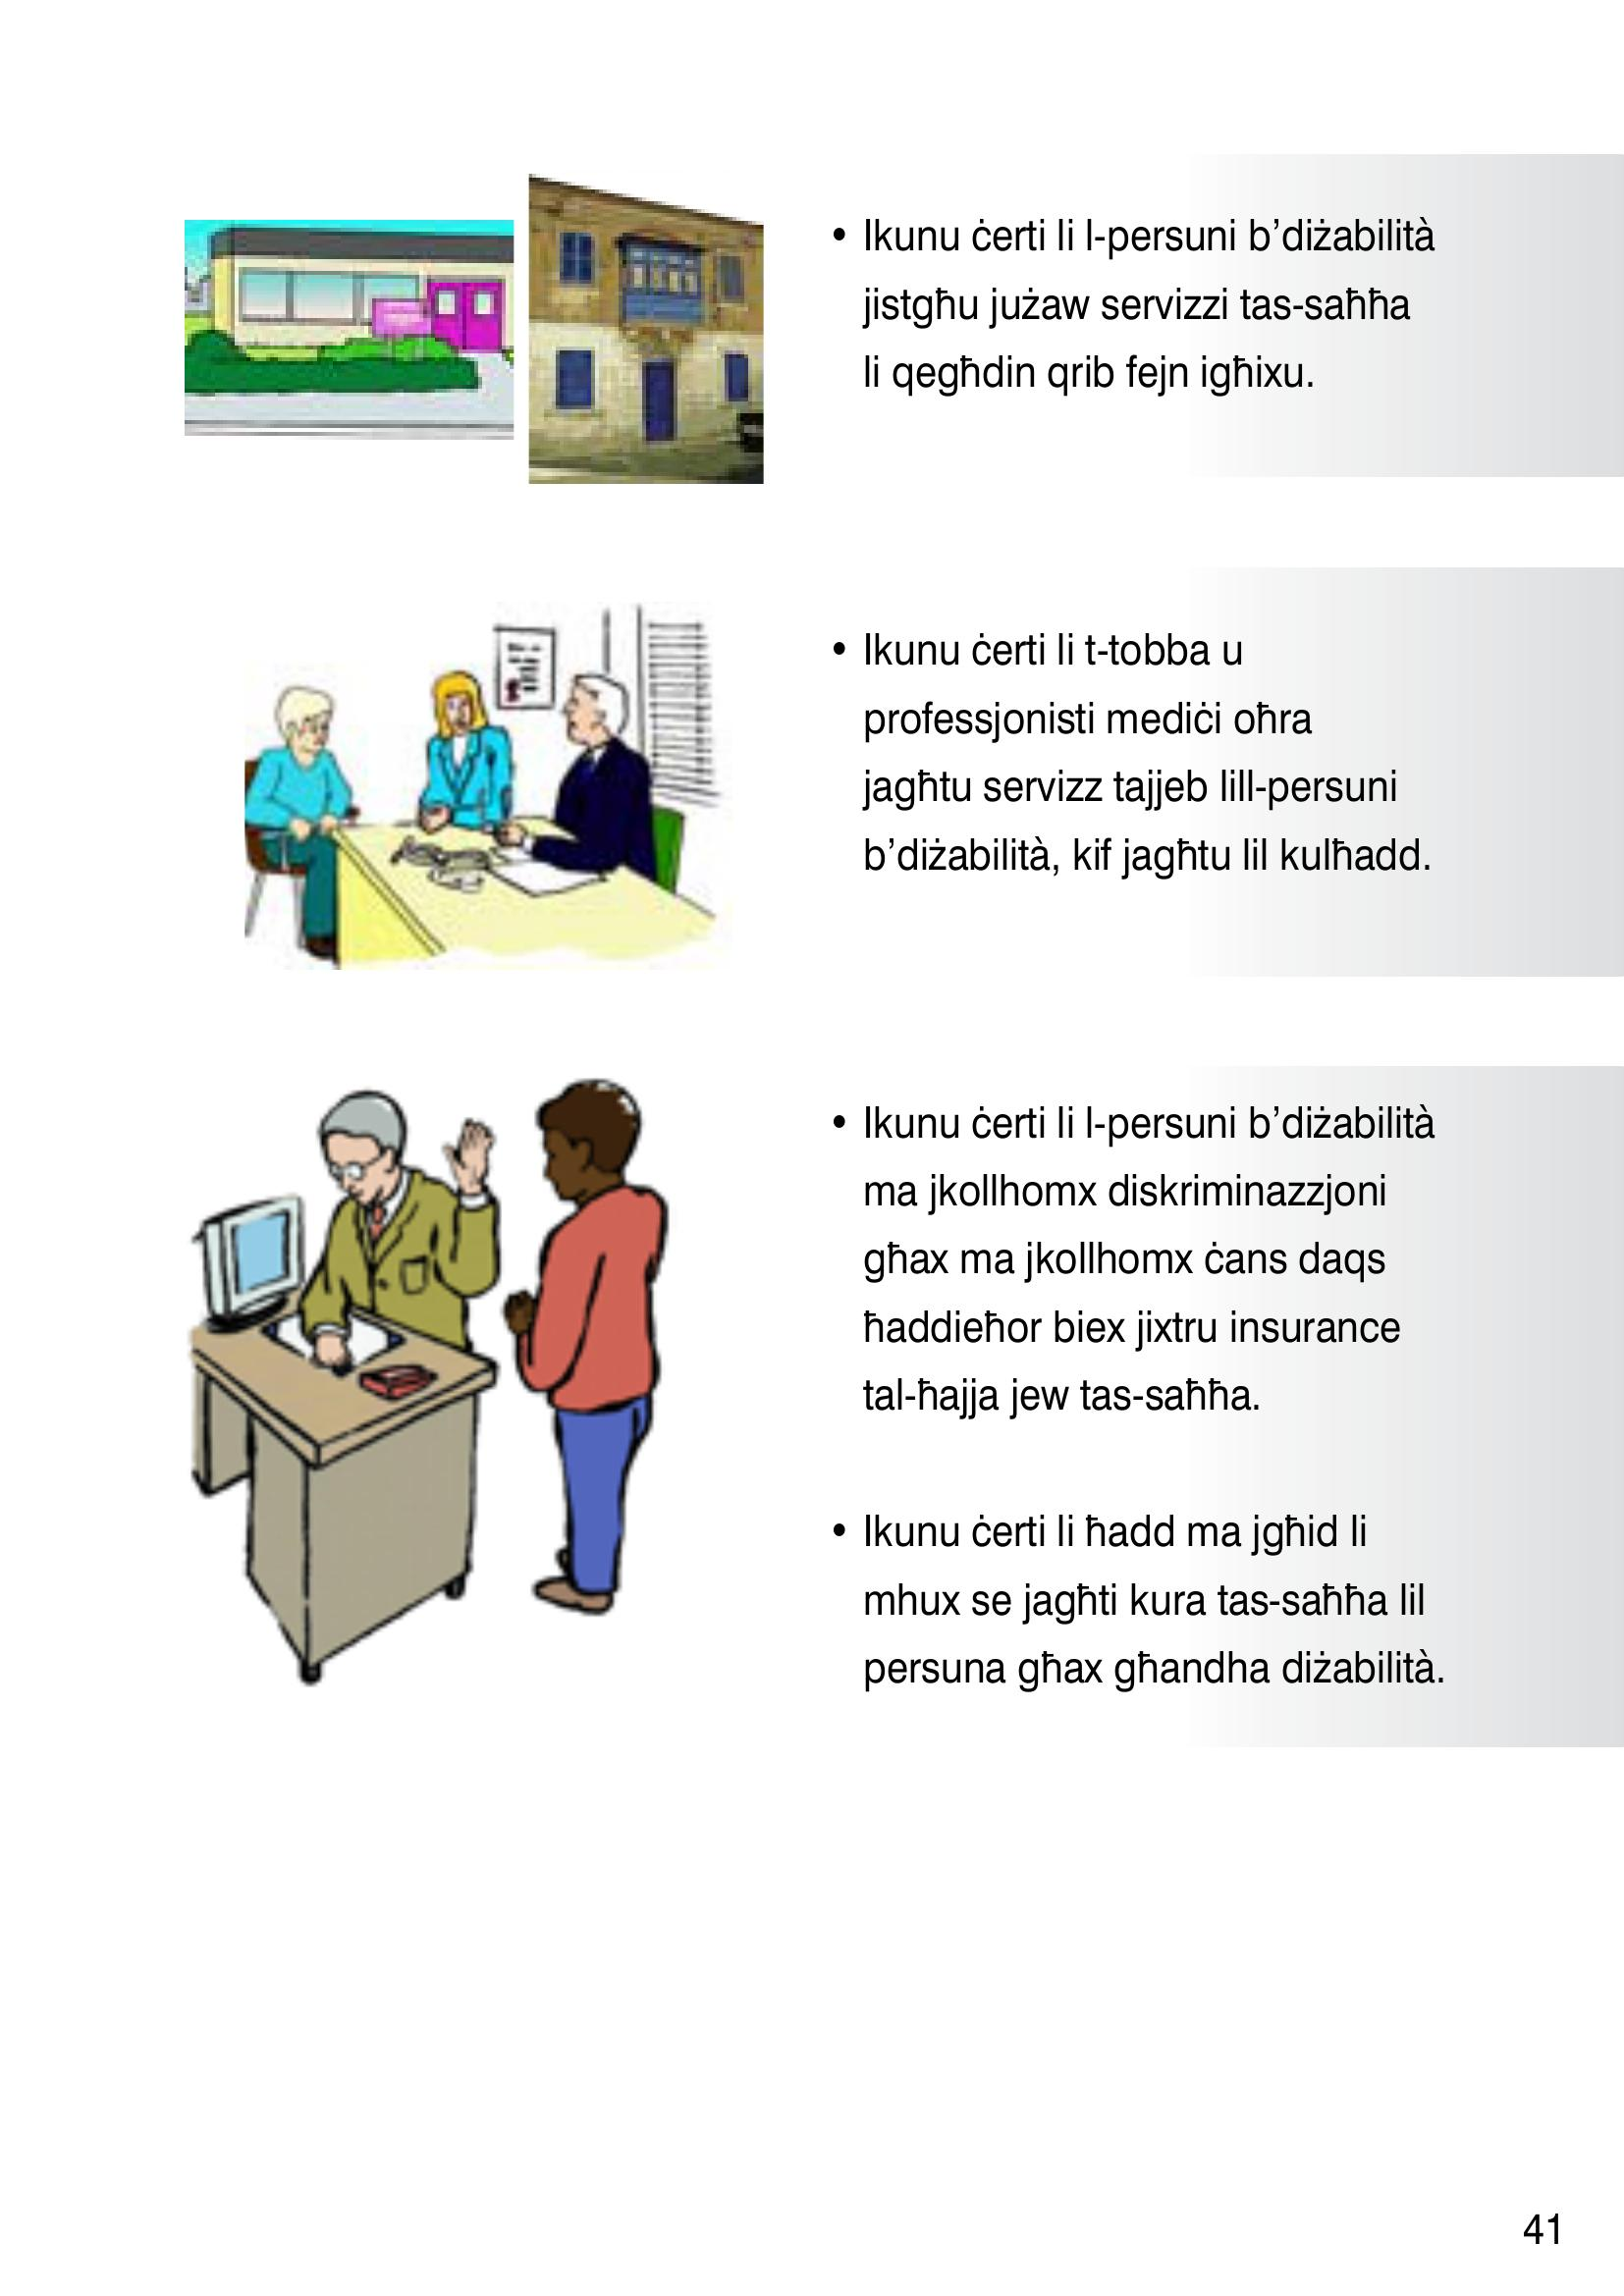text: (803, 193, 1490, 1730)
